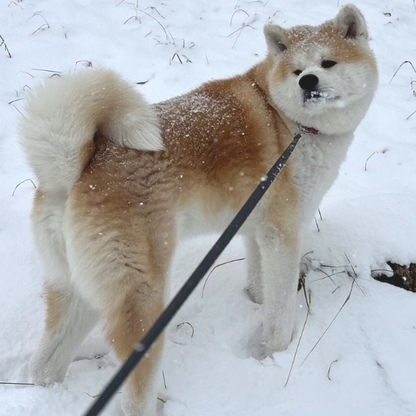akita: (21, 1, 385, 416)
